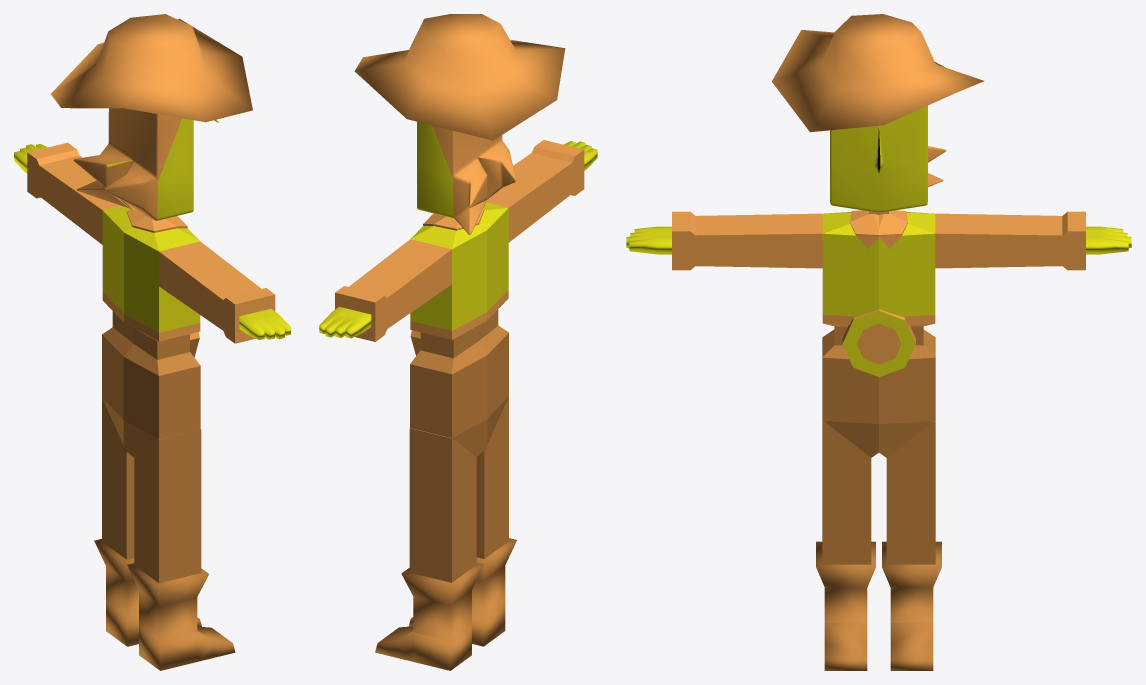
File: Yellow.glb
3 renders of one model, left to right at view 1: azimuth 30°, elevation 25°; view 2: azimuth 150°, elevation 25°; view 3: azimuth 270°, elevation 25°, orthographic.
Parts seen in each view (by area): view 1: Cube, Cylinder, Cube.003, Cube.001, Cube.002; view 2: Cube, Cylinder, Cube.001, Cube.003, Cube.002; view 3: Cube, Cylinder, Cube.001, Cube.003, Circle, Cube.002.
Boxes of the visible parts, x1,y1,x2,y2 form: Cube: (27,142,275,583); Cylinder: (51,14,252,122); Cube.003: (73,108,218,220); Cube.001: (94,539,235,670); Cube.002: (14,144,290,340); Cube: (335,140,584,582); Cylinder: (354,14,565,140); Cube.001: (375,538,516,670); Cube.003: (417,121,516,234); Cube.002: (319,141,597,338); Cube: (672,210,1085,564); Cylinder: (772,14,983,132); Cube.001: (816,541,941,670); Cube.003: (830,105,946,212); Circle: (842,309,915,377); Cube.002: (626,226,1131,254).
Size of the model in its own units: 5.87 by 18.48 by 13.77.
